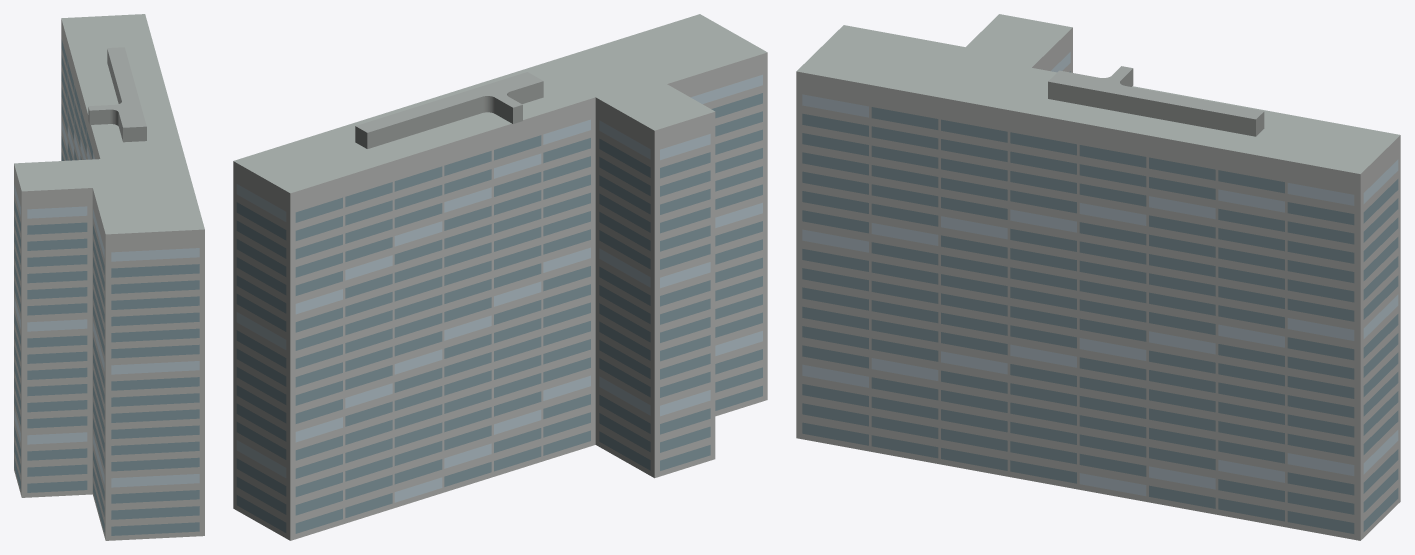
File: apt-a12185001.glb
3 renders of one model, left to right at view 1: azimuth 30°, elevation 25°; view 2: azimuth 150°, elevation 25°; view 3: azimuth 270°, elevation 25°, orthographic. The views are drawn at different scales.
Parts seen in each view (by area): view 1: apt-a12185001; view 2: apt-a12185001; view 3: apt-a12185001.
Part boxes in pixels (x1,y1,x2,y2): apt-a12185001: (14, 14, 204, 540); apt-a12185001: (233, 14, 767, 540); apt-a12185001: (796, 14, 1400, 540).
Bounding box in the file's own units: 47.41 × 53 × 75.56.
